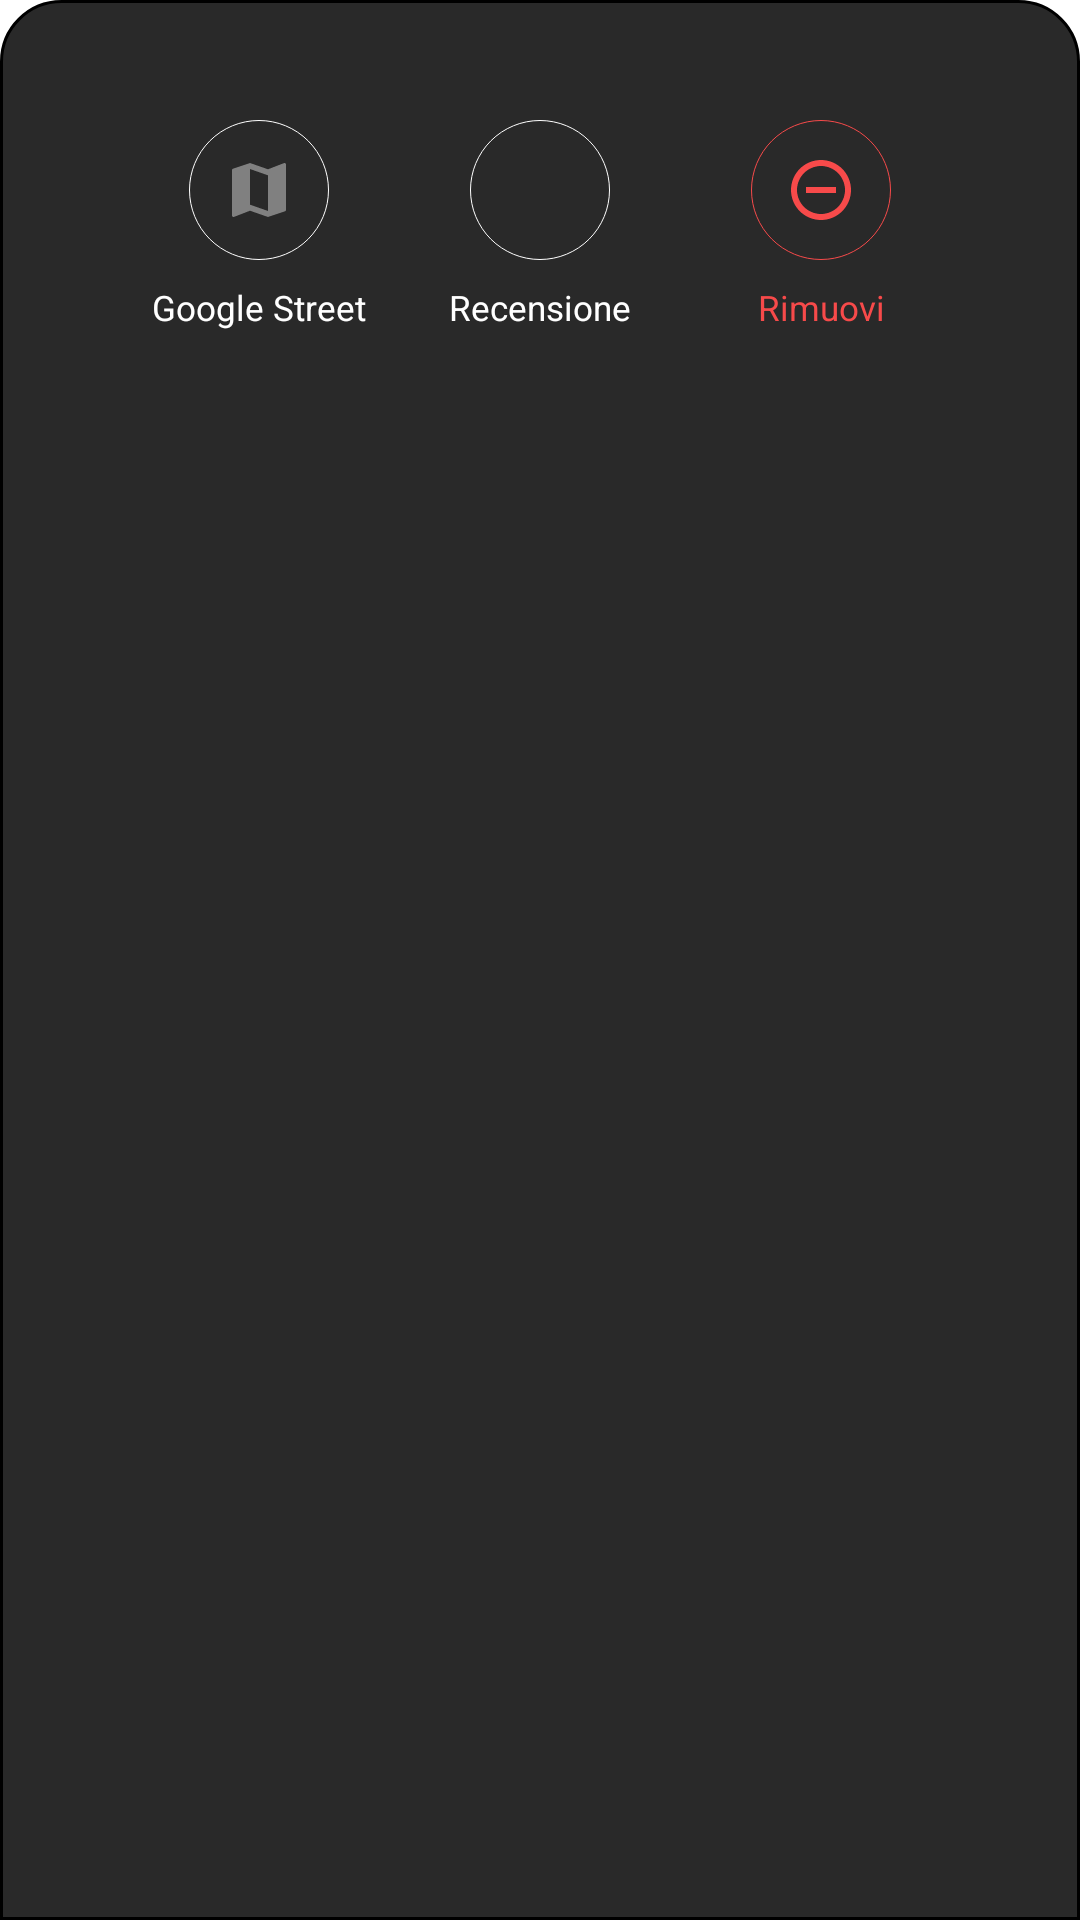

Where to tap for icons on this 1080*1920 app screen, as (x=x, y=y):
map: (x=259, y=190)
remove circle: (x=821, y=190)
